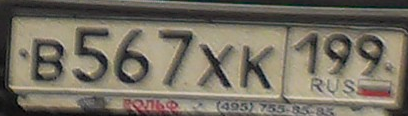character: (157, 27, 194, 93), (71, 25, 112, 84), (114, 25, 152, 88), (236, 39, 276, 93), (28, 35, 67, 87), (197, 40, 234, 93), (322, 31, 354, 80), (352, 30, 384, 79), (293, 28, 319, 79)
